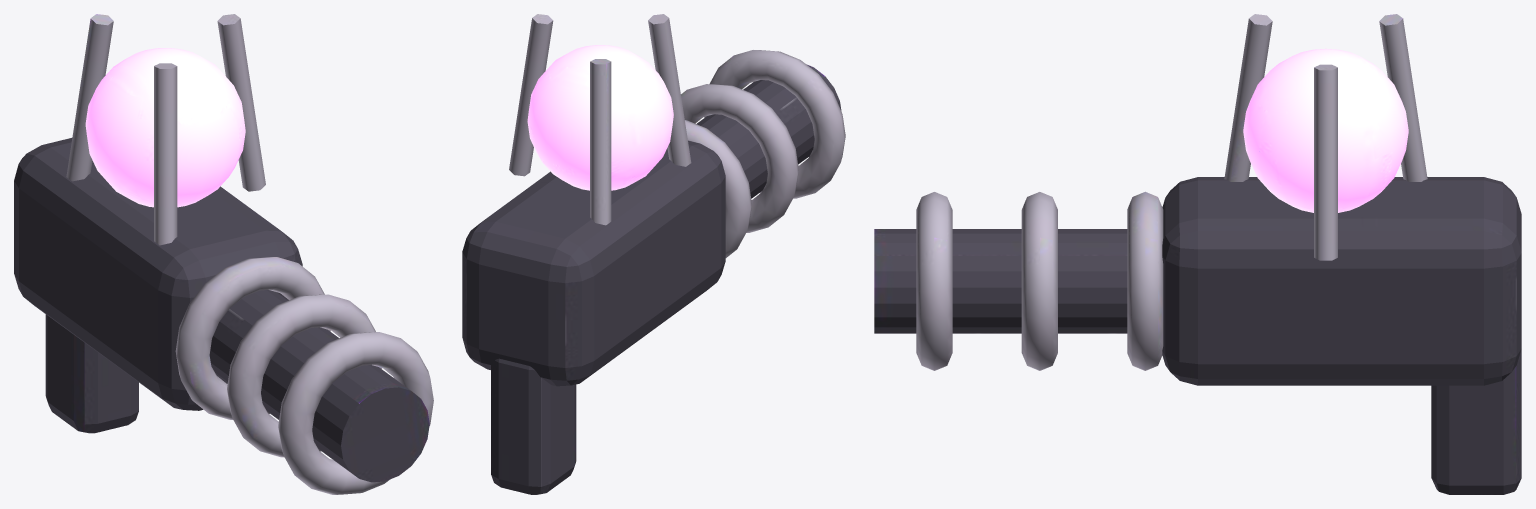
The model's file is void_pulser.glb.
The picture shows the model from 3 angles, left to right: view 1: azimuth 30°, elevation 25°; view 2: azimuth 150°, elevation 25°; view 3: azimuth 270°, elevation 25°; orthographic projection. The views are drawn at different scales.
Parts seen in each view (by area): view 1: VoidPulser; view 2: VoidPulser; view 3: VoidPulser.
Boxes of the visible parts, x1,y1,x2,y2 form: VoidPulser: [14, 14, 433, 494]; VoidPulser: [462, 14, 845, 494]; VoidPulser: [874, 14, 1521, 494].
Size of the model in its own units: 0.1368 by 0.3311 by 0.43.
1 material, 1 textured.
